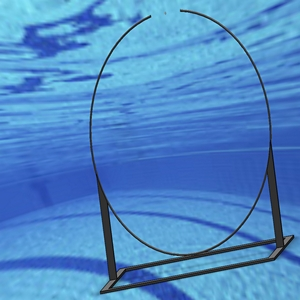circle: (86, 7, 274, 295)
